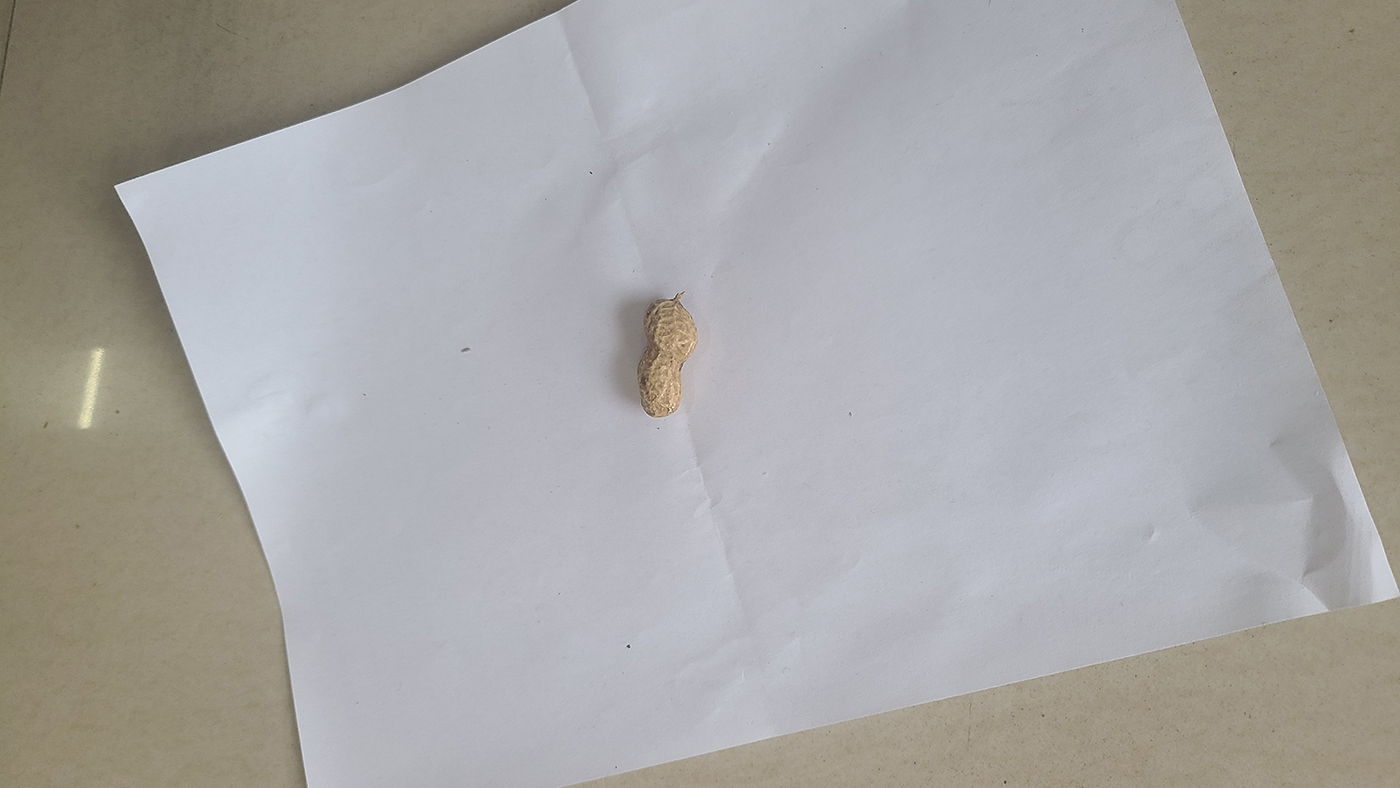h: (636, 298, 696, 419)
